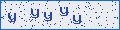y: (7, 12, 18, 23), (58, 6, 69, 17), (30, 8, 40, 18), (73, 15, 82, 24), (44, 12, 52, 21)
